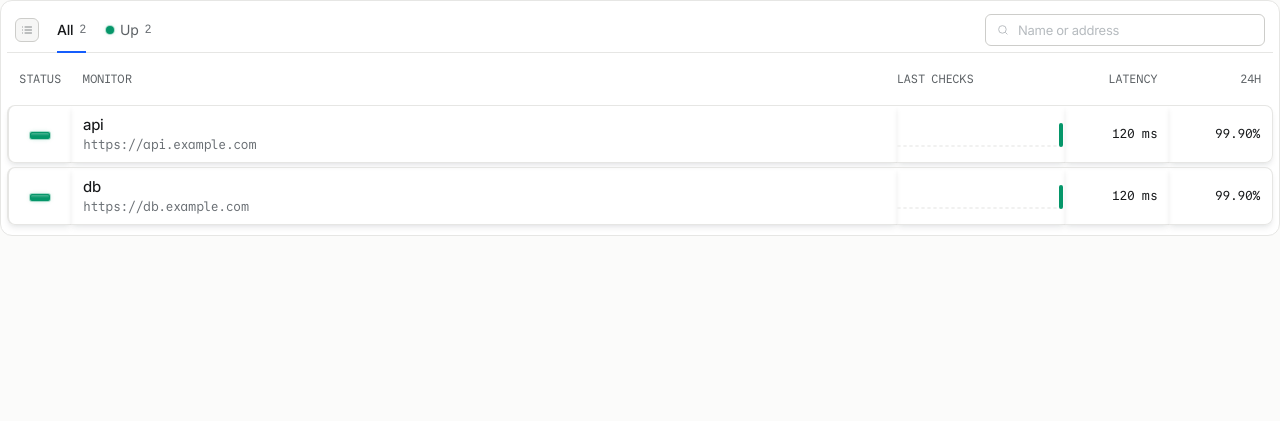
Test: Dashboard › explains an empty search result rather than showing a blank table
This screenshot has width=1280, height=421.
Step 1. Type "kubernetes" into the search field named "filter monitors" → point(1136, 30), box [1018,22,1254,38]
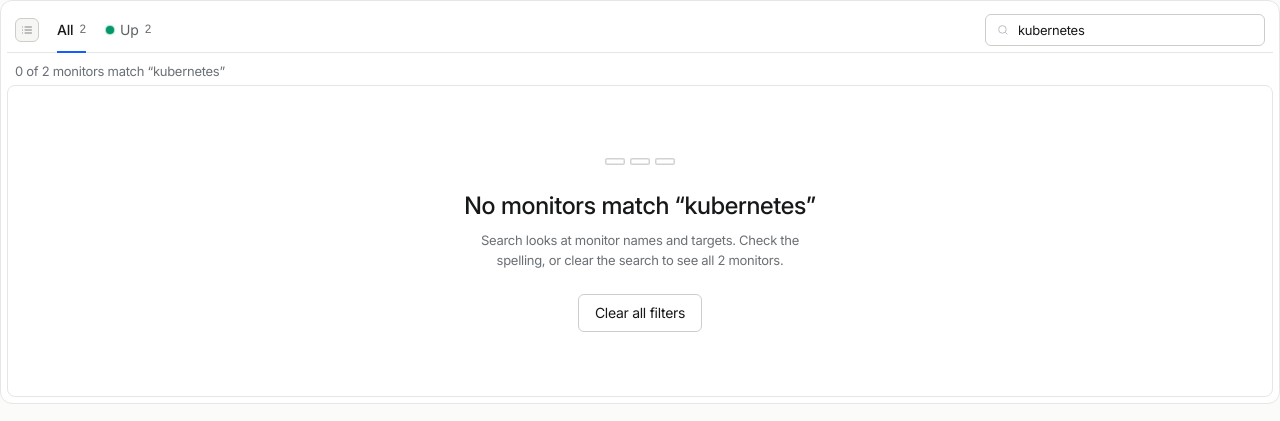
Expected: the heading "No monitors match “kubernetes”" is shown, [464,191,816,220]
